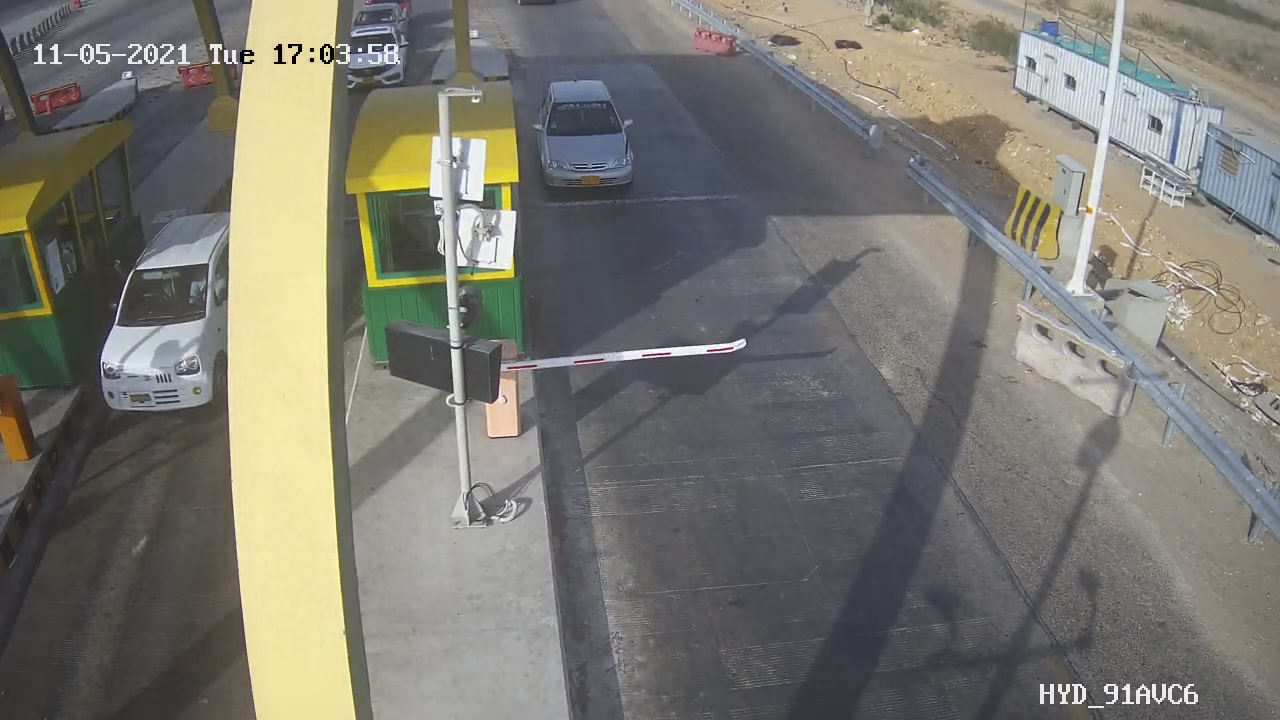F1: (518, 64, 661, 217)
